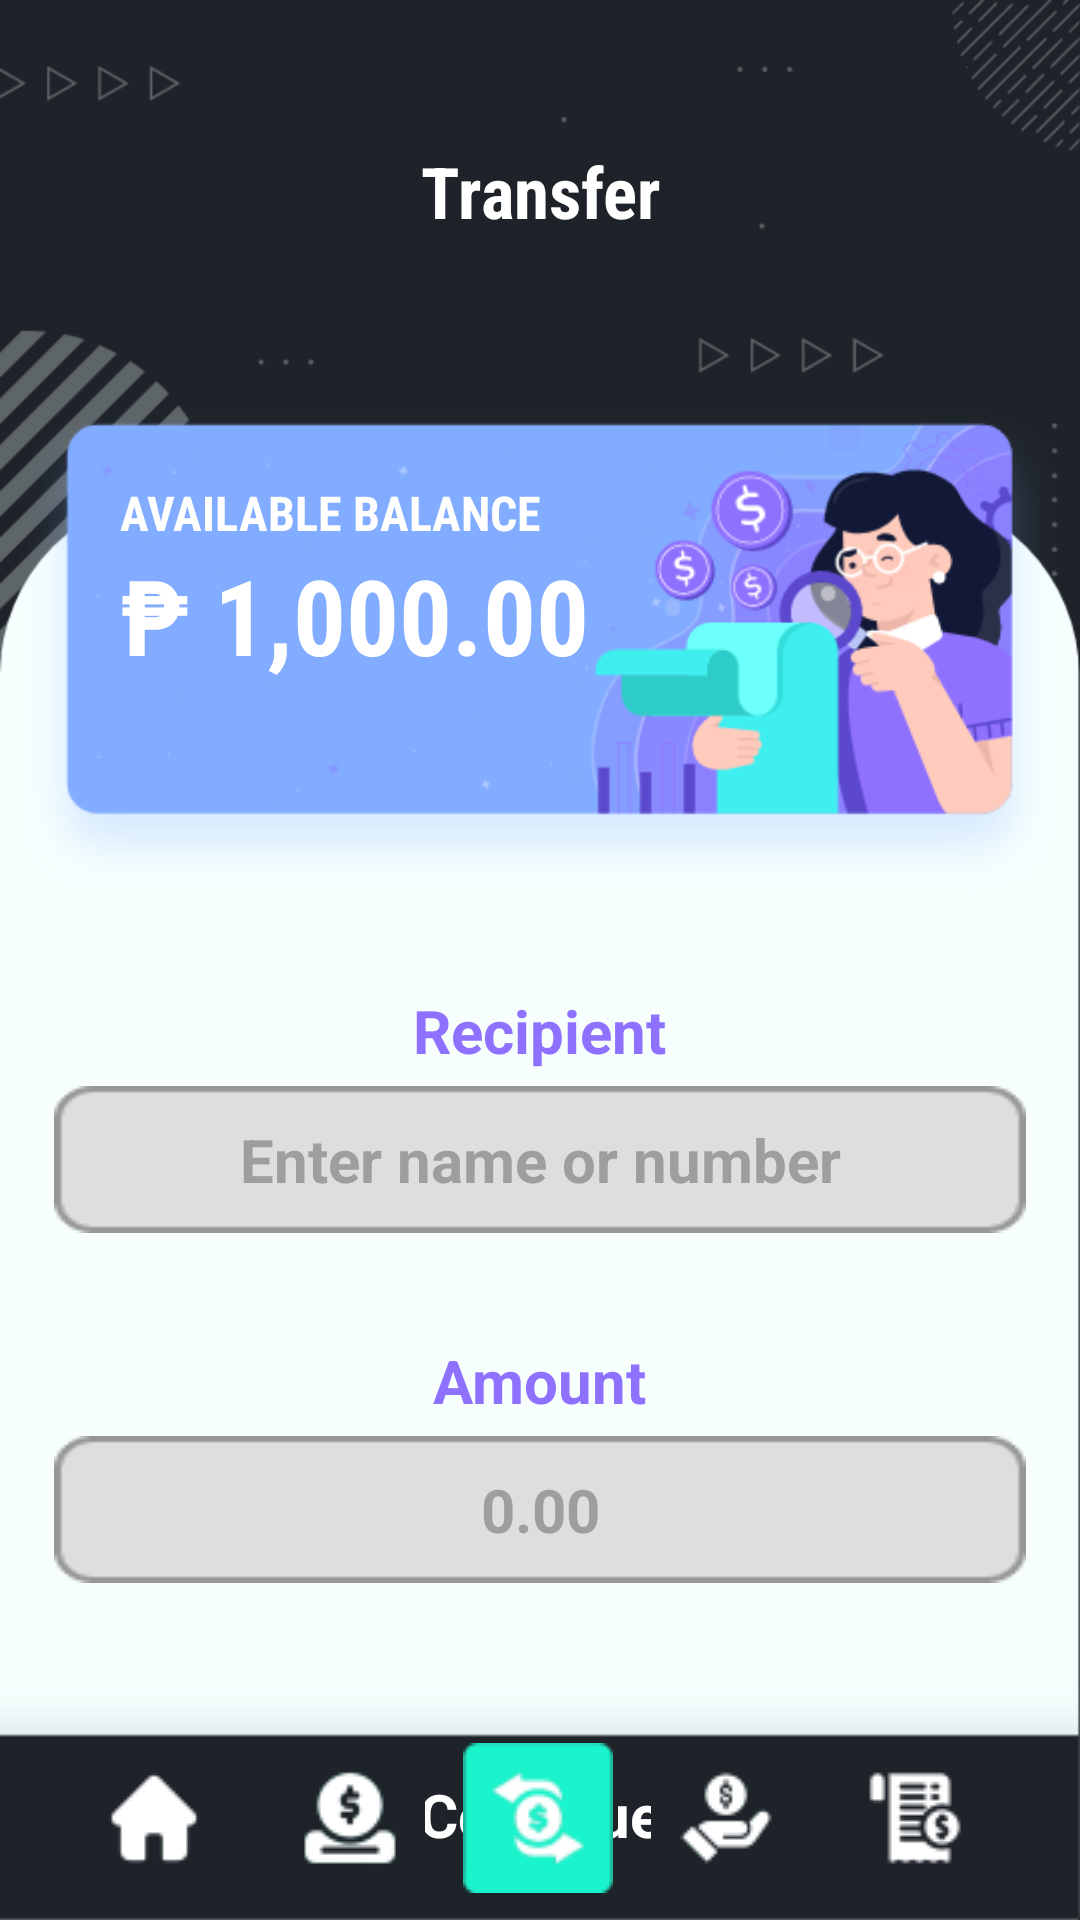

Icons on this 1080px x 1920px Android screen, each with its box as (x1, y1, x2, y2):
deposit: (304, 1772, 396, 1864)
home: (111, 1775, 197, 1863)
transactions: (869, 1772, 961, 1864)
transfer: (463, 1743, 613, 1893)
